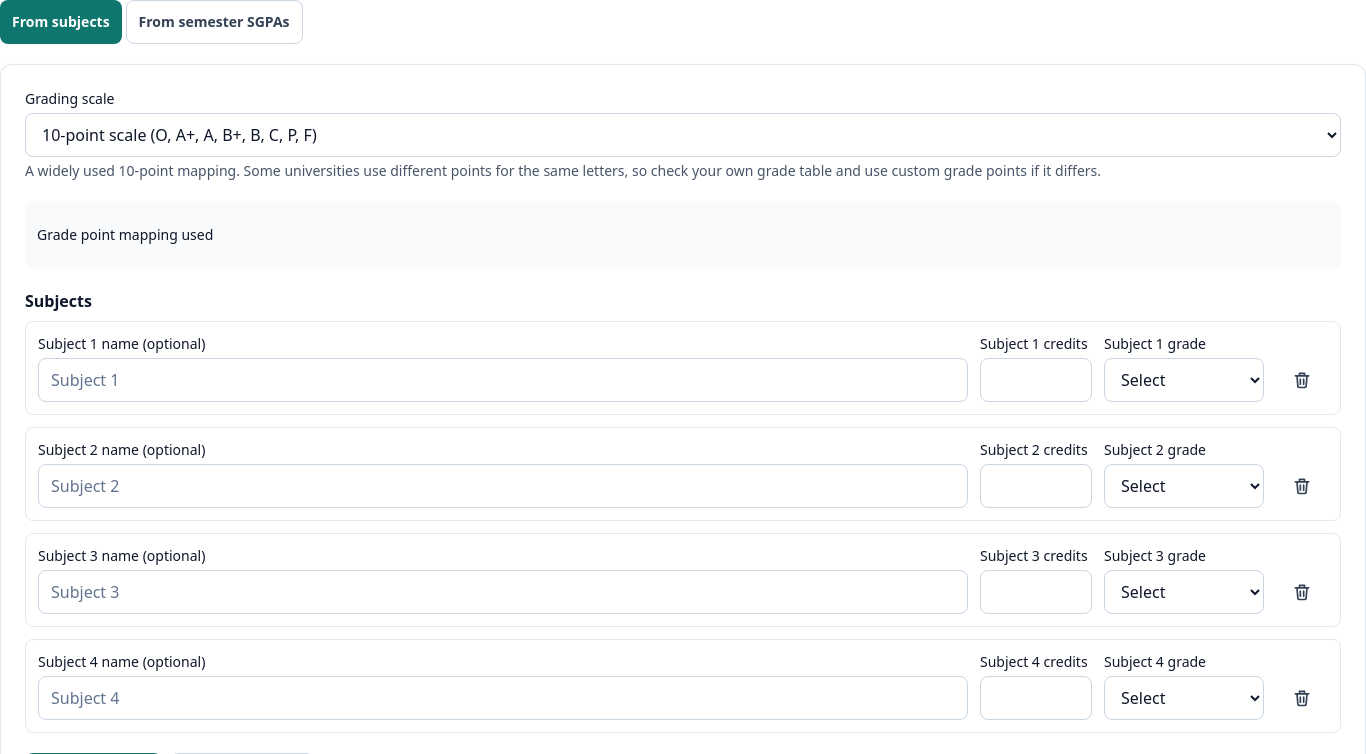
Test: CgpaCalculator › switches to the semester method and calculates
Click the tab "From semester SGPAs". click: (214,22)
box: [126,0,302,44]
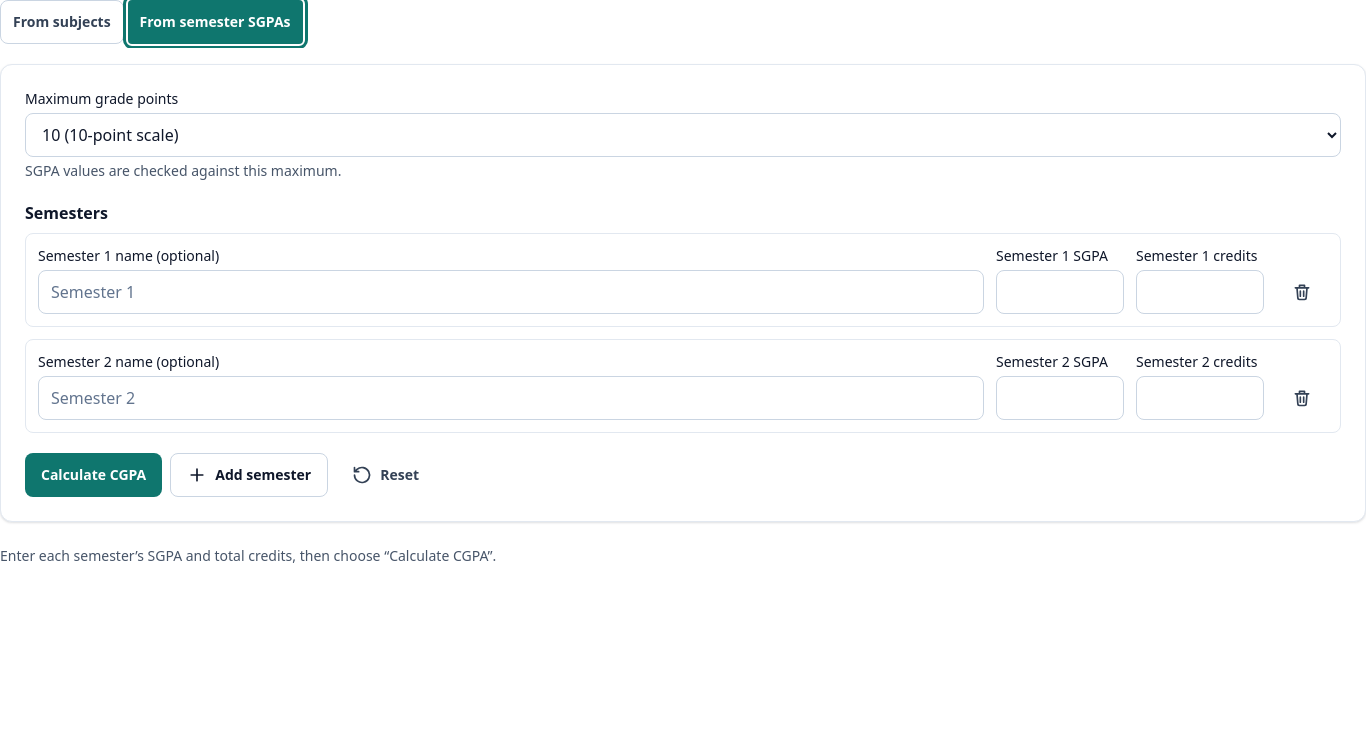
Type "8.2" into the field labelled "Semester 1 SGPA". click: (1060,292)
box: [996,270,1124,314]
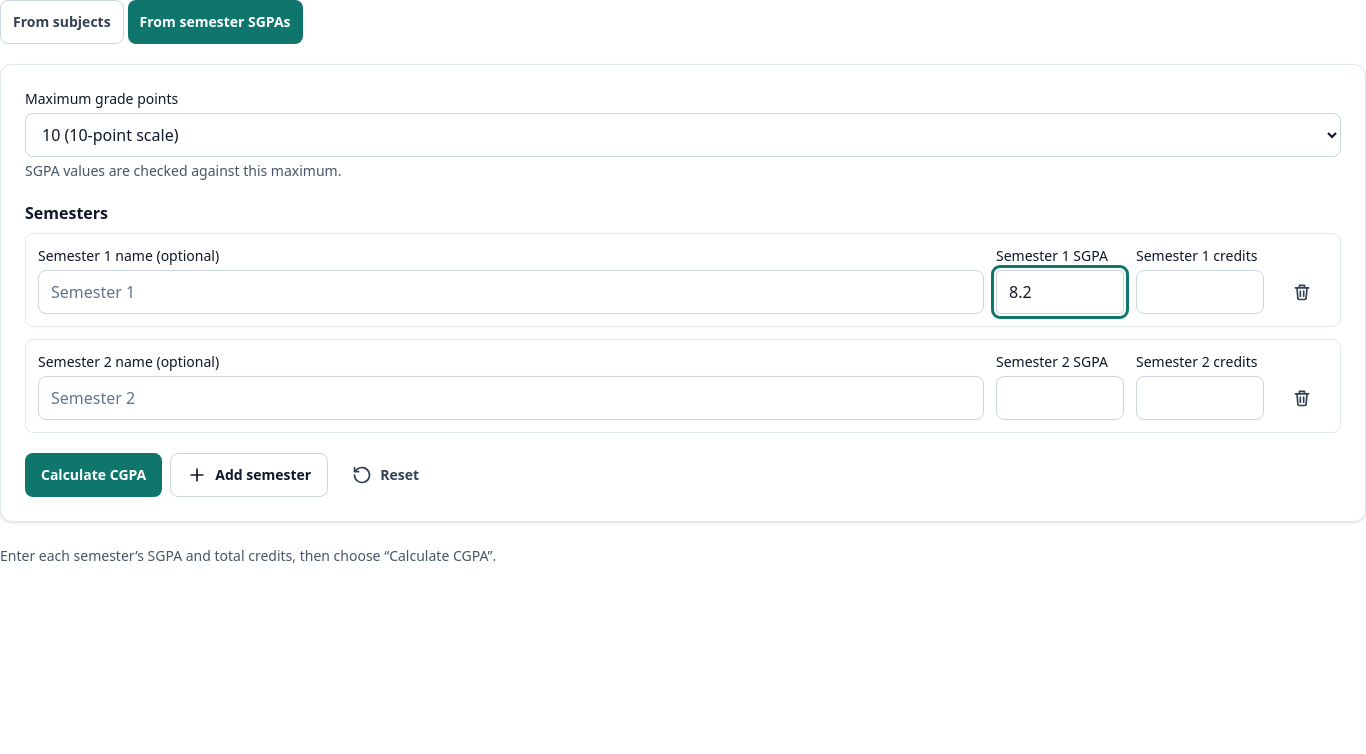
Type "22" into the field labelled "Semester 1 credits". click: (1200,292)
box: [1136,270,1264,314]
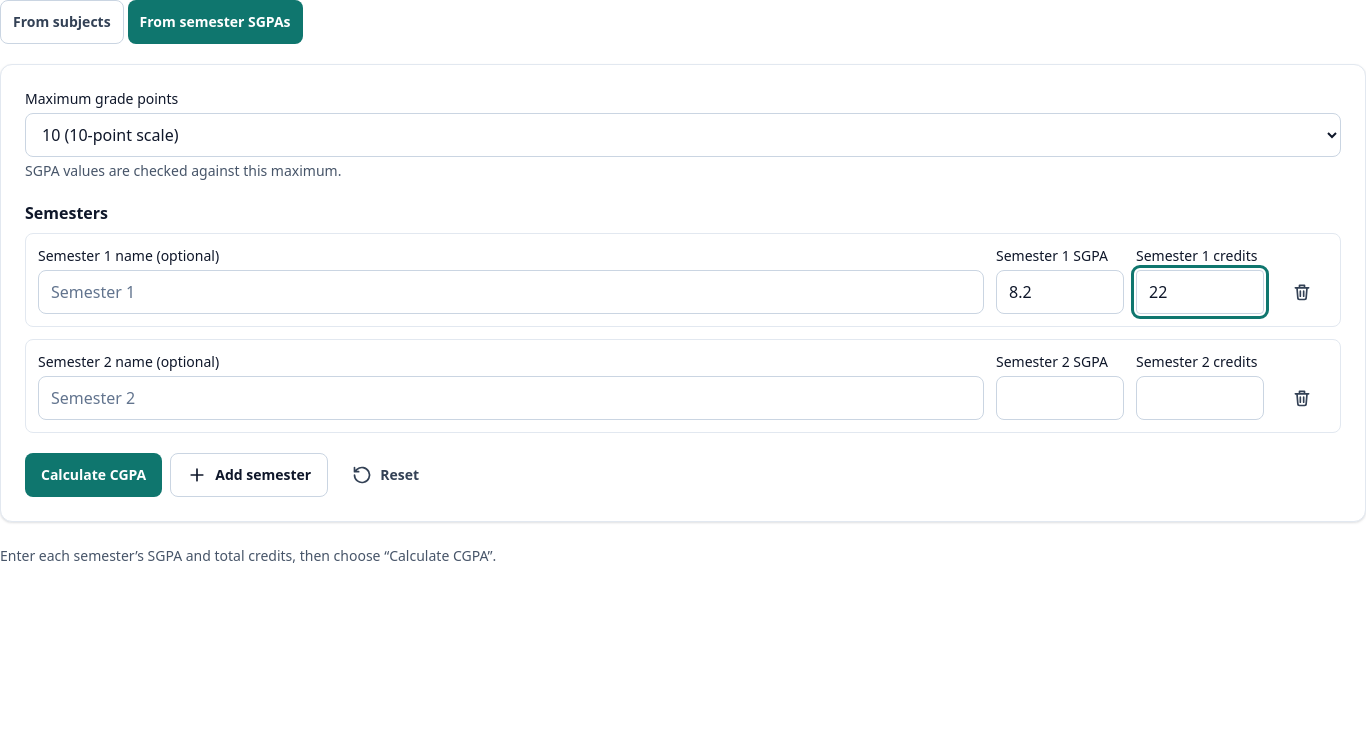
Type "8.8" into the field labelled "Semester 2 SGPA". click: (1060,398)
box: [996,376,1124,420]
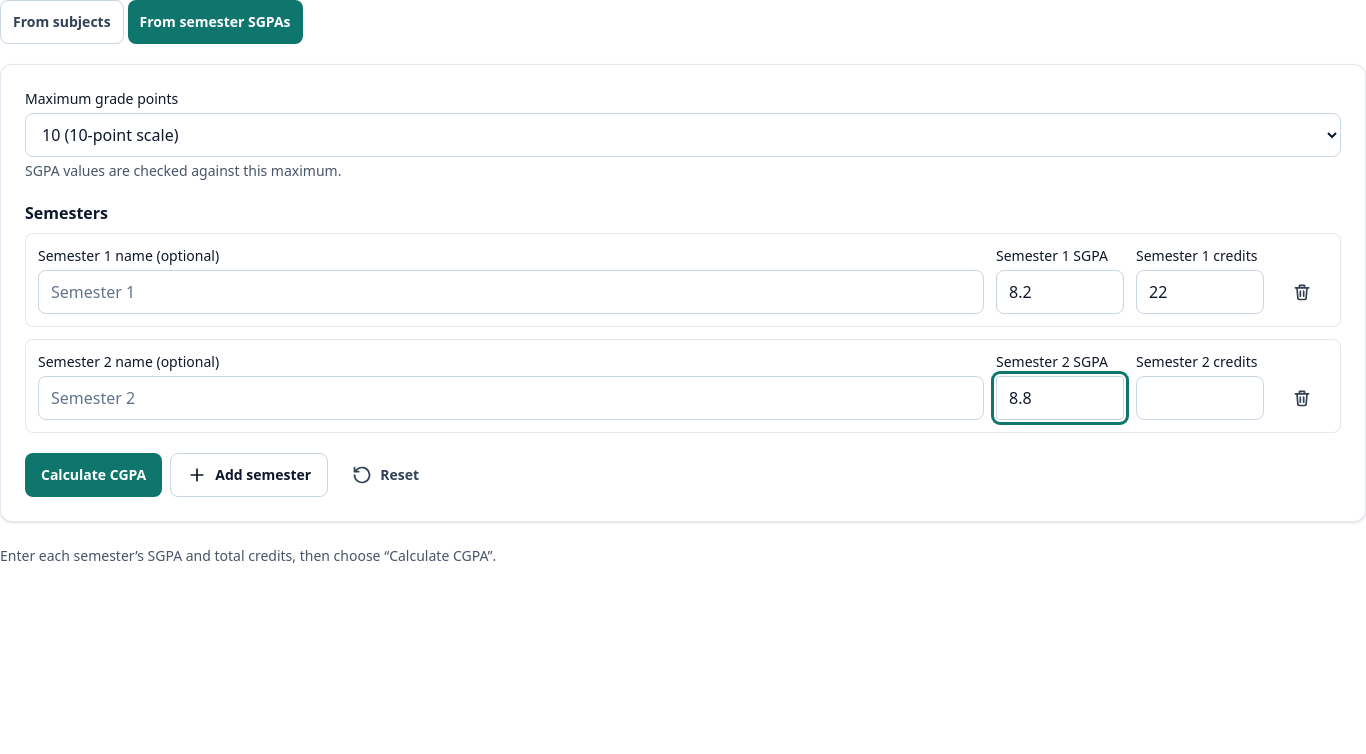
Type "24" into the field labelled "Semester 2 credits". click: (1200,398)
box: [1136,376,1264,420]
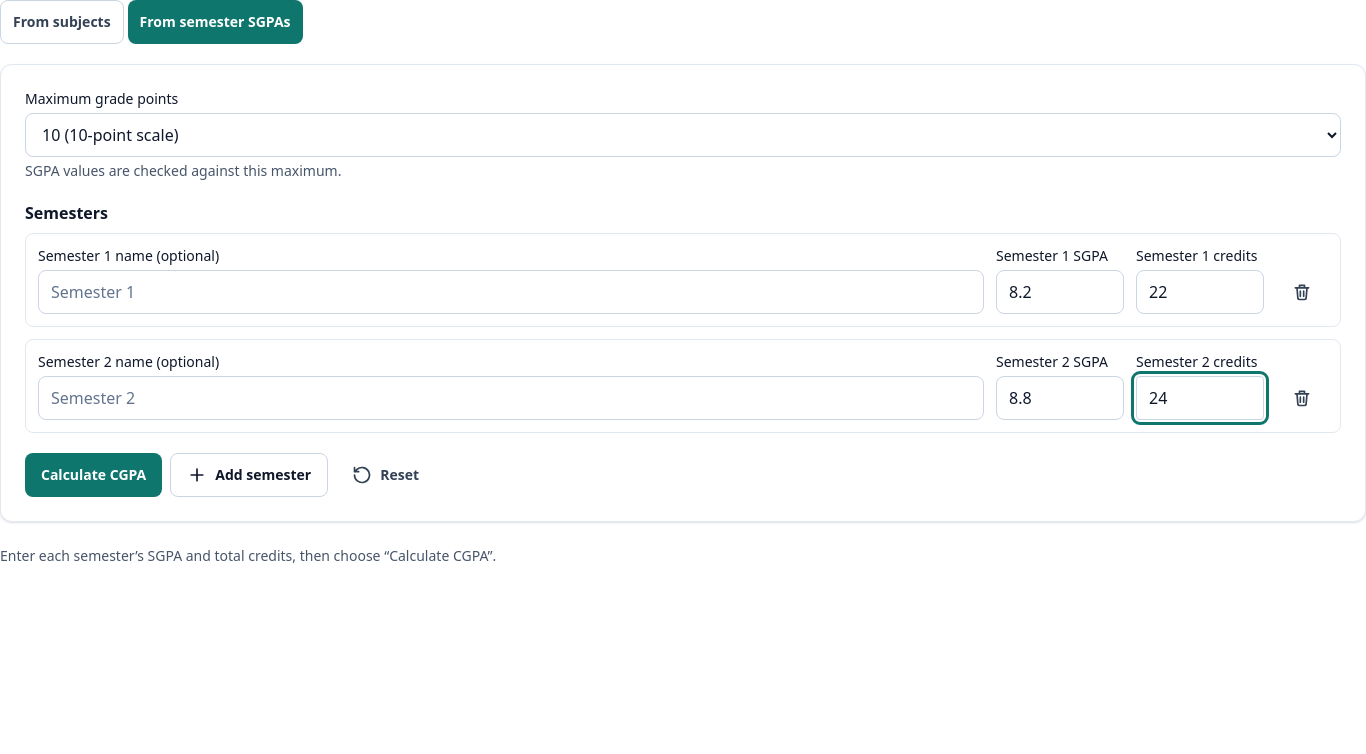
Click the button "Calculate CGPA". click: (94,475)
box: [25,453,162,497]
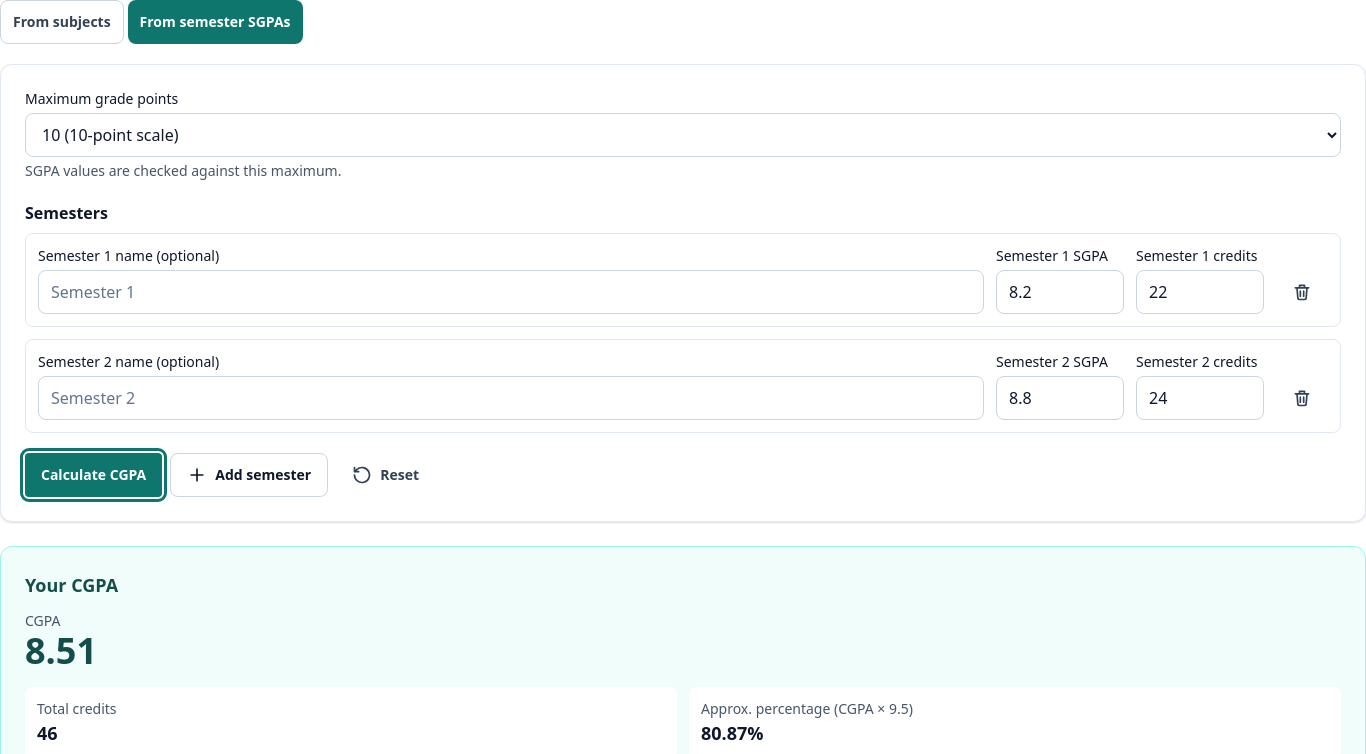
Now the text "8.51" is shown, box [25,626,97,675]
